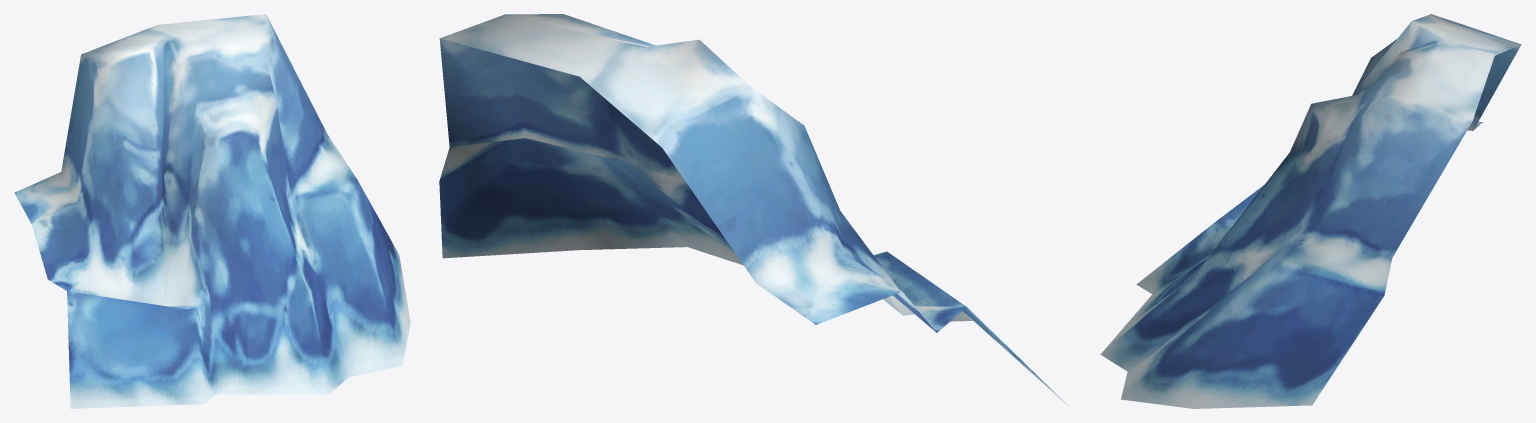
File: SM_stoneE_01.fbx
The picture shows the model from 3 angles, left to right: view 1: azimuth 30°, elevation 25°; view 2: azimuth 150°, elevation 25°; view 3: azimuth 270°, elevation 25°; orthographic projection. The views are drawn at different scales.
Visible parts, largest first — view 1: SM_stoneE_01; view 2: SM_stoneE_01; view 3: SM_stoneE_01.
Part boxes in pixels (x1,y1,x2,y2): SM_stoneE_01: (14, 14, 410, 408); SM_stoneE_01: (439, 14, 1067, 405); SM_stoneE_01: (1100, 14, 1521, 408).
Bounding box in the file's own units: 4.13 × 2.77 × 3.45.
